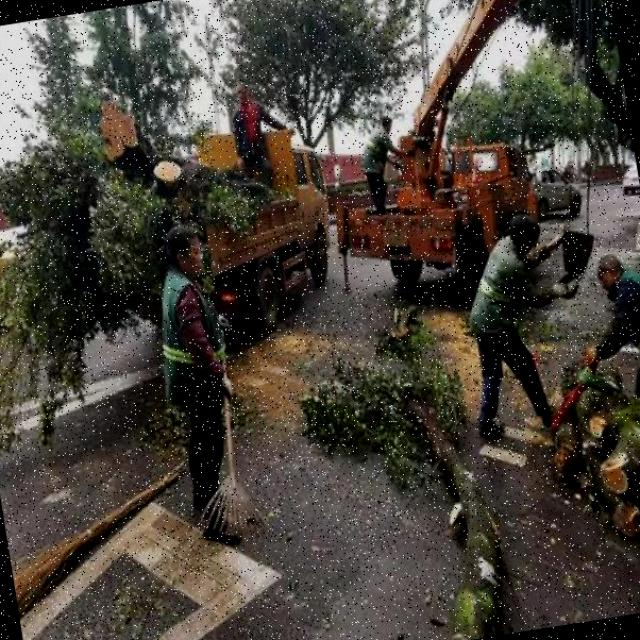fallen_object: (287, 328, 519, 640)
